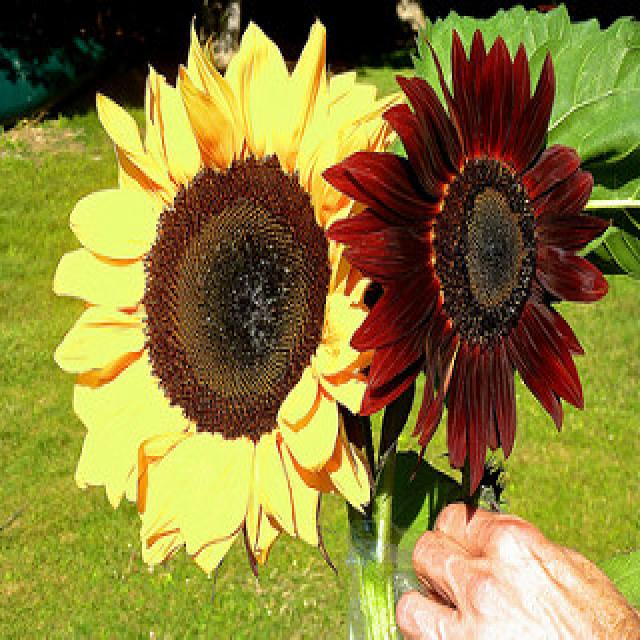sunflower: (49, 34, 399, 578)
